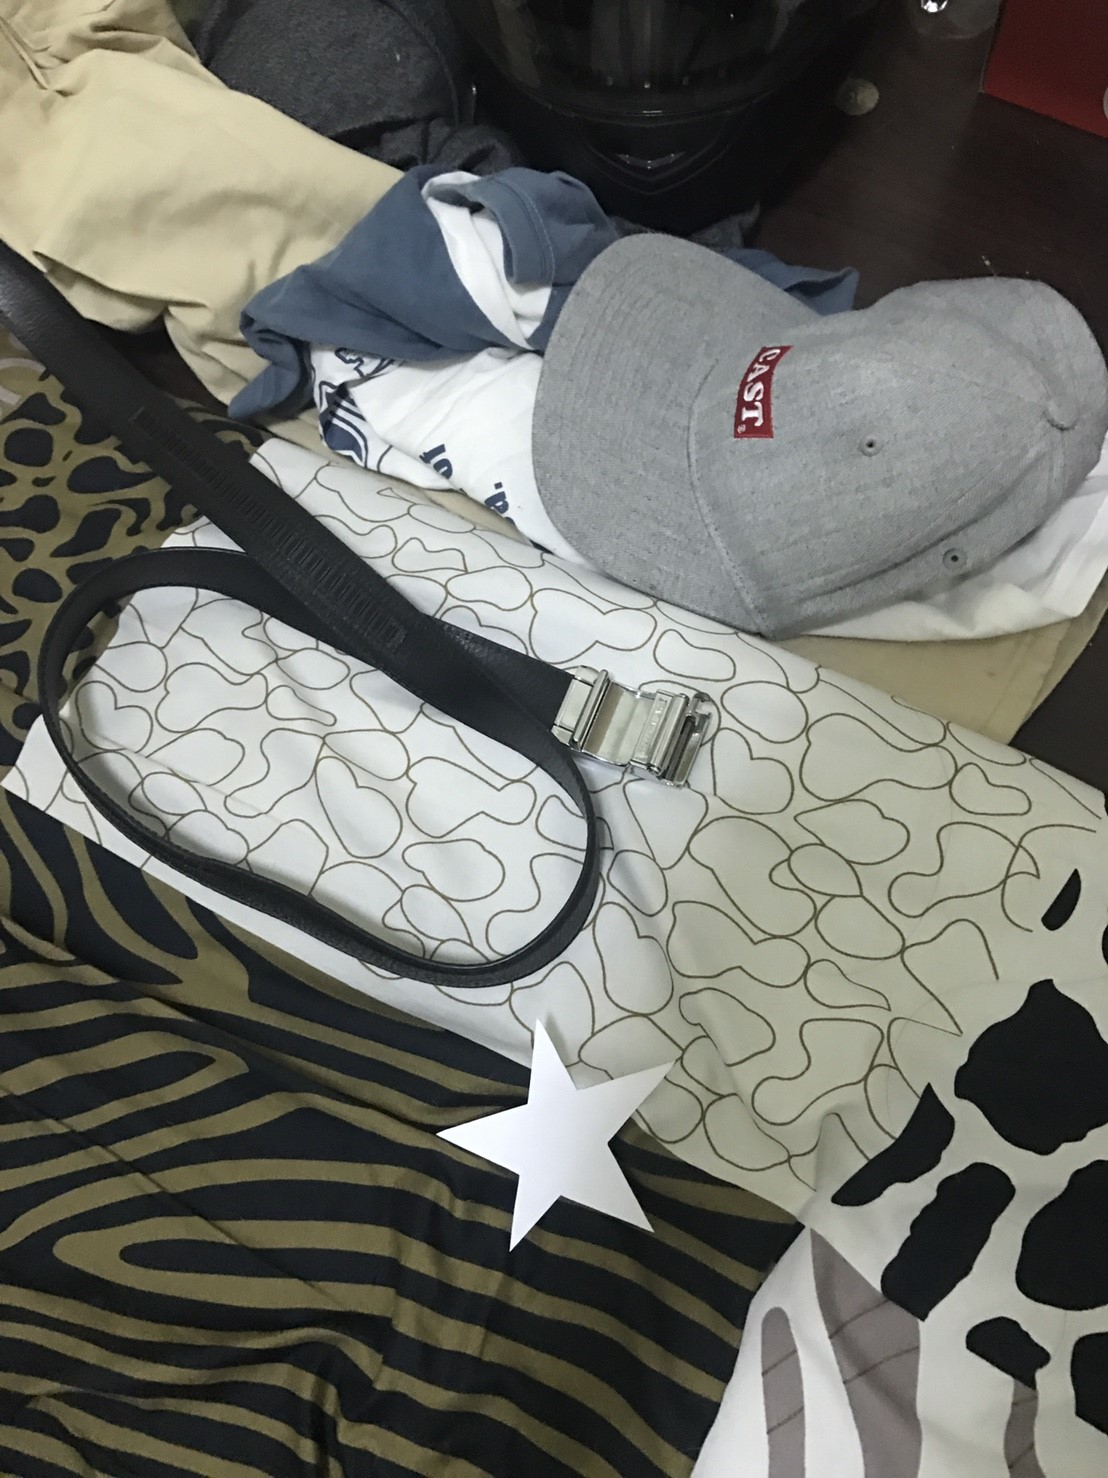star: (427, 1014, 681, 1262)
